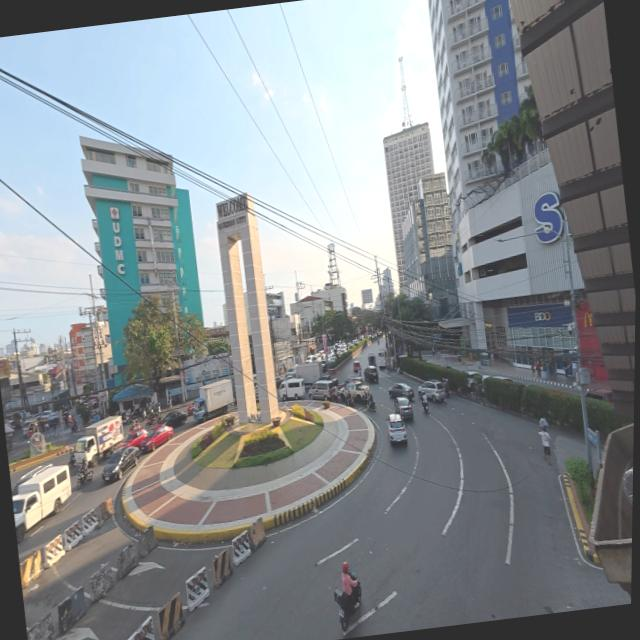car: (130, 425, 176, 455)
vans: (276, 377, 311, 402)
